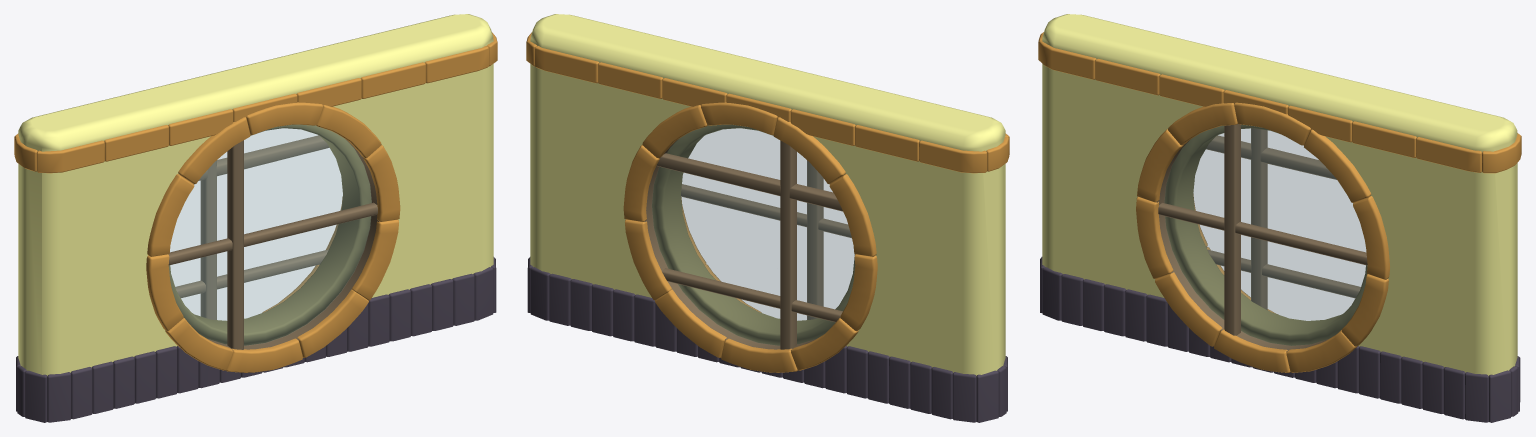
Rendered from Env2_Window.fbx.
The picture shows the model from 3 angles, left to right: view 1: azimuth 30°, elevation 25°; view 2: azimuth 150°, elevation 25°; view 3: azimuth 330°, elevation 25°; orthographic projection.
Parts seen in each view (by area): view 1: Env2_Window; view 2: Env2_Window; view 3: Env2_Window.
Boxes of the visible parts, x1,y1,x2,y2 form: Env2_Window: [14, 14, 497, 422]; Env2_Window: [526, 14, 1009, 422]; Env2_Window: [1038, 14, 1521, 422].
Size of the model in its own units: 338 by 195 by 49.31.
